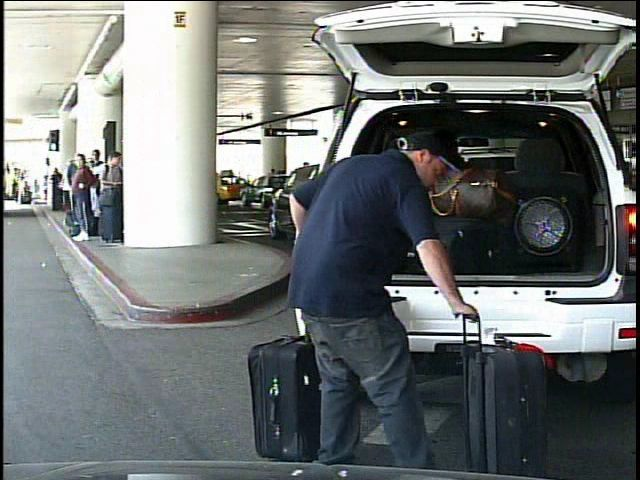person: (286, 105, 487, 480), (18, 176, 29, 207)
